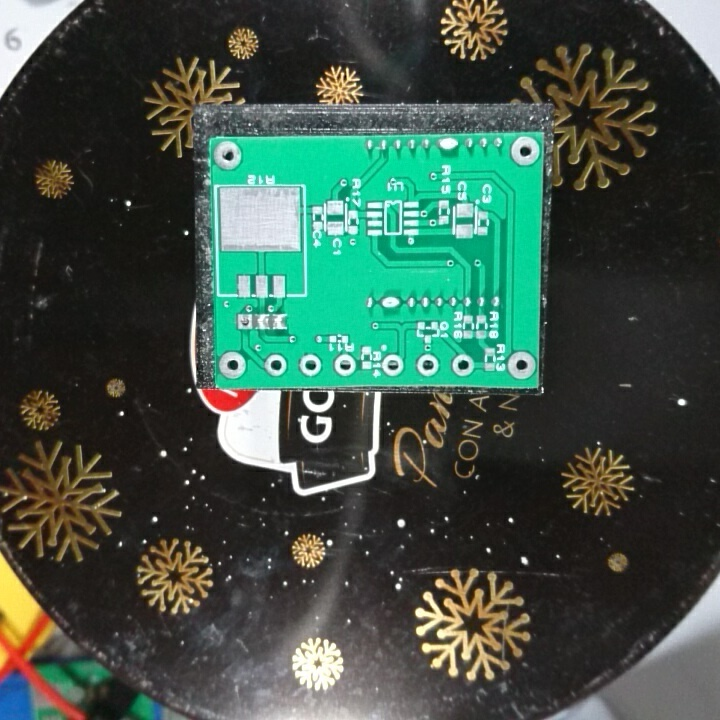F: (211, 137, 249, 175), (504, 348, 536, 385), (510, 135, 544, 168), (217, 348, 248, 381), (262, 350, 290, 380), (299, 351, 323, 380), (416, 351, 440, 379), (380, 353, 406, 378), (333, 349, 356, 377), (451, 352, 473, 379), (235, 312, 253, 332)
P: (436, 136, 464, 156), (377, 292, 402, 312)
